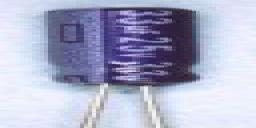Electrolytic Capacitor: (40, 2, 211, 92)
